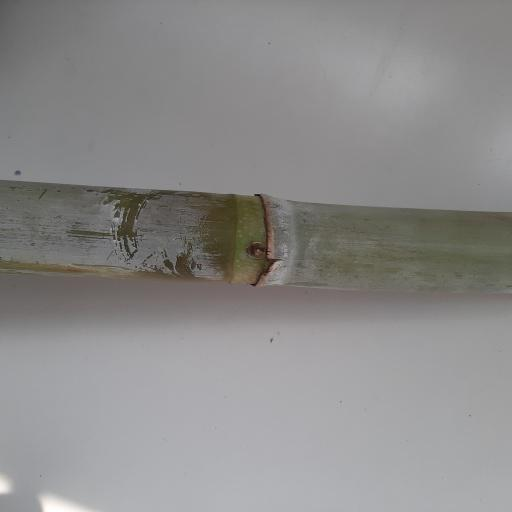Bud: (244, 243, 267, 259)
